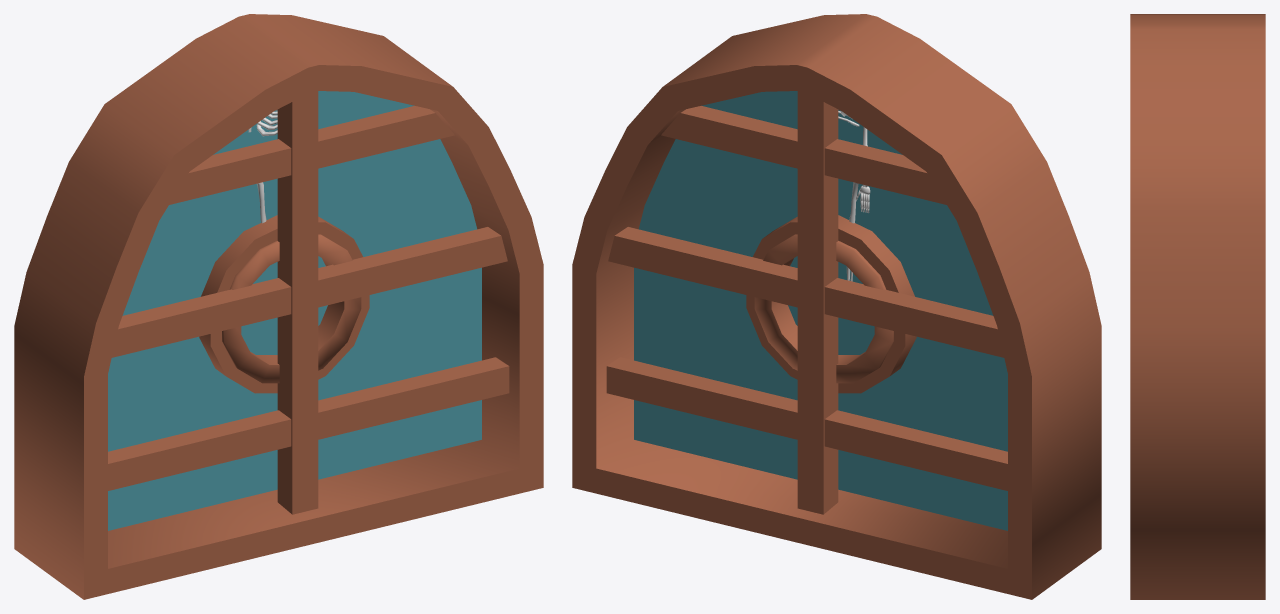
Rendered from janelasEsqueletos.fbx.
3 renders of one model, left to right at view 1: azimuth 30°, elevation 25°; view 2: azimuth 150°, elevation 25°; view 3: azimuth 270°, elevation 25°, orthographic. The views are drawn at different scales.
Parts seen in each view (by area): view 1: Janela.Navio.Grande, Janela.Navio.Redonda; view 2: Janela.Navio.Grande, Janela.Navio.Redonda; view 3: Janela.Navio.Grande.
Boxes of the visible parts, x1,y1,x2,y2 form: Janela.Navio.Grande: [14, 14, 543, 599]; Janela.Navio.Redonda: [199, 215, 369, 393]; Janela.Navio.Grande: [572, 14, 1101, 599]; Janela.Navio.Redonda: [746, 215, 916, 393]; Janela.Navio.Grande: [1130, 14, 1265, 599].
Bounding box in the file's own units: 355 × 352 × 93.08.
